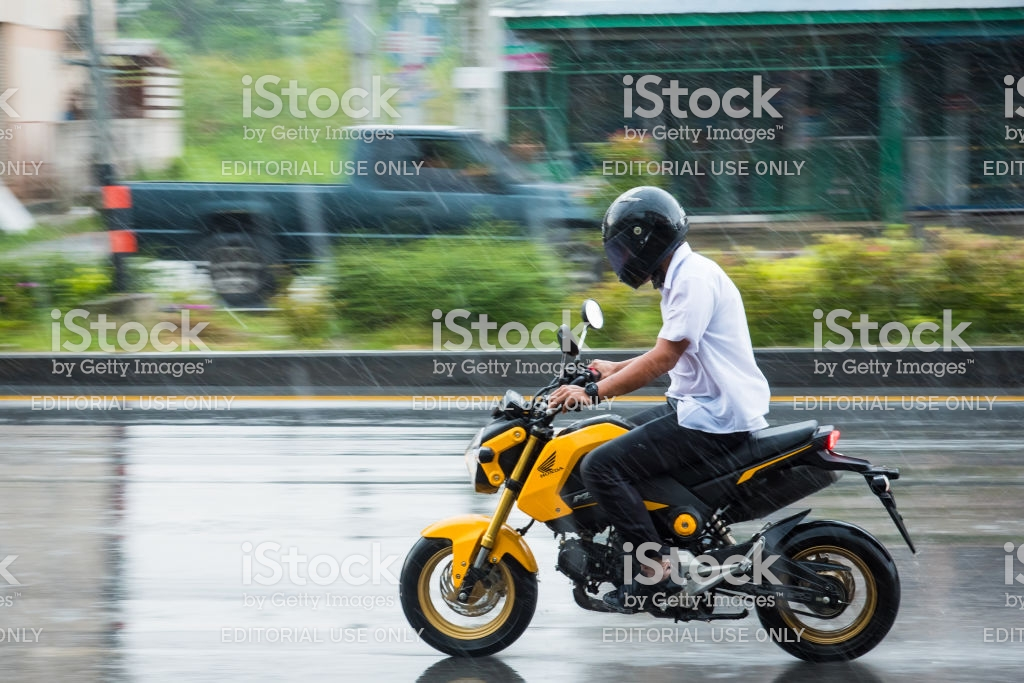helmet: (598, 185, 697, 283)
